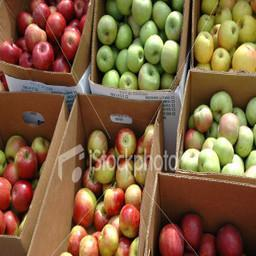apple: (159, 222, 185, 256), (216, 222, 242, 256), (73, 187, 96, 225), (180, 211, 203, 248), (15, 145, 37, 179), (10, 179, 32, 213), (119, 204, 141, 238), (30, 40, 54, 70), (210, 90, 233, 121), (217, 113, 240, 144), (233, 42, 256, 73), (61, 25, 81, 58), (116, 126, 136, 157), (104, 185, 124, 216), (99, 225, 119, 256), (194, 31, 214, 62), (94, 152, 114, 183), (87, 129, 107, 160), (115, 156, 135, 187), (218, 19, 239, 48), (45, 12, 66, 40), (24, 22, 46, 48), (5, 134, 26, 161), (193, 104, 213, 130), (31, 135, 50, 162), (211, 46, 231, 71), (1, 38, 20, 63), (184, 127, 204, 150), (32, 2, 50, 26), (79, 234, 98, 256)
